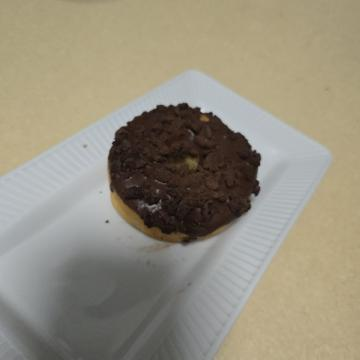doughnut: (90, 91, 258, 264)
